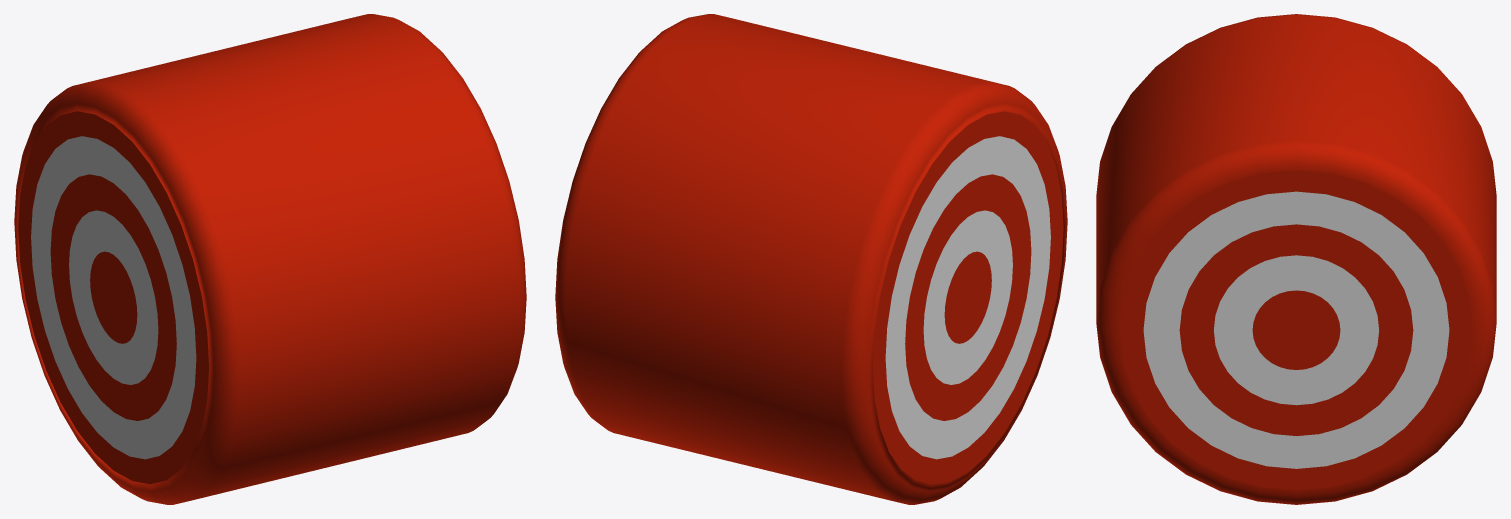
Rendered from TargetBlender.fbx.
The picture shows the model from 3 angles, left to right: view 1: azimuth 30°, elevation 25°; view 2: azimuth 150°, elevation 25°; view 3: azimuth 270°, elevation 25°; orthographic projection. The views are drawn at different scales.
Parts seen in each view (by area): view 1: Cylinder; view 2: Cylinder; view 3: Cylinder.
Boxes of the visible parts, x1,y1,x2,y2 form: Cylinder: [14, 14, 526, 504]; Cylinder: [555, 14, 1067, 504]; Cylinder: [1096, 14, 1496, 504].
Bounding box in the file's own units: 205 × 246 × 246.
